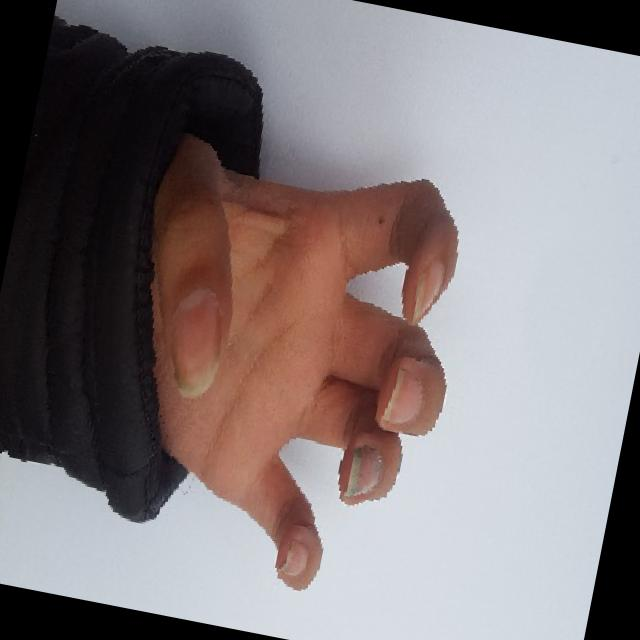Nail: (171, 289, 218, 397), (382, 368, 423, 424), (410, 260, 444, 324), (343, 446, 382, 497), (278, 540, 307, 576)
